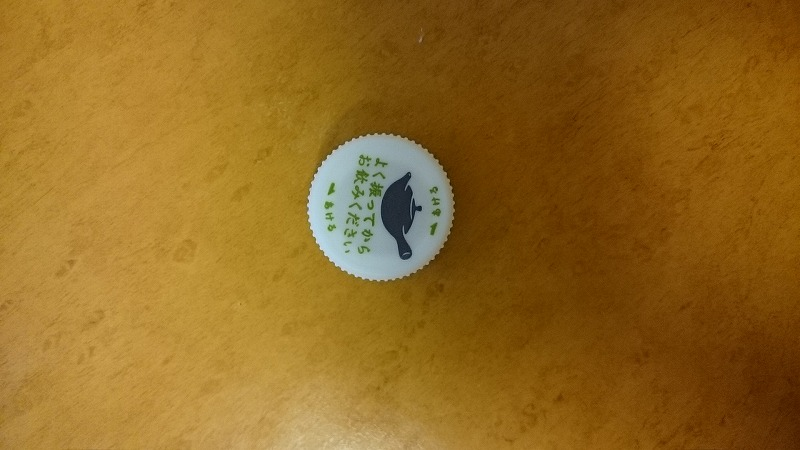A: (298, 125, 460, 290)
